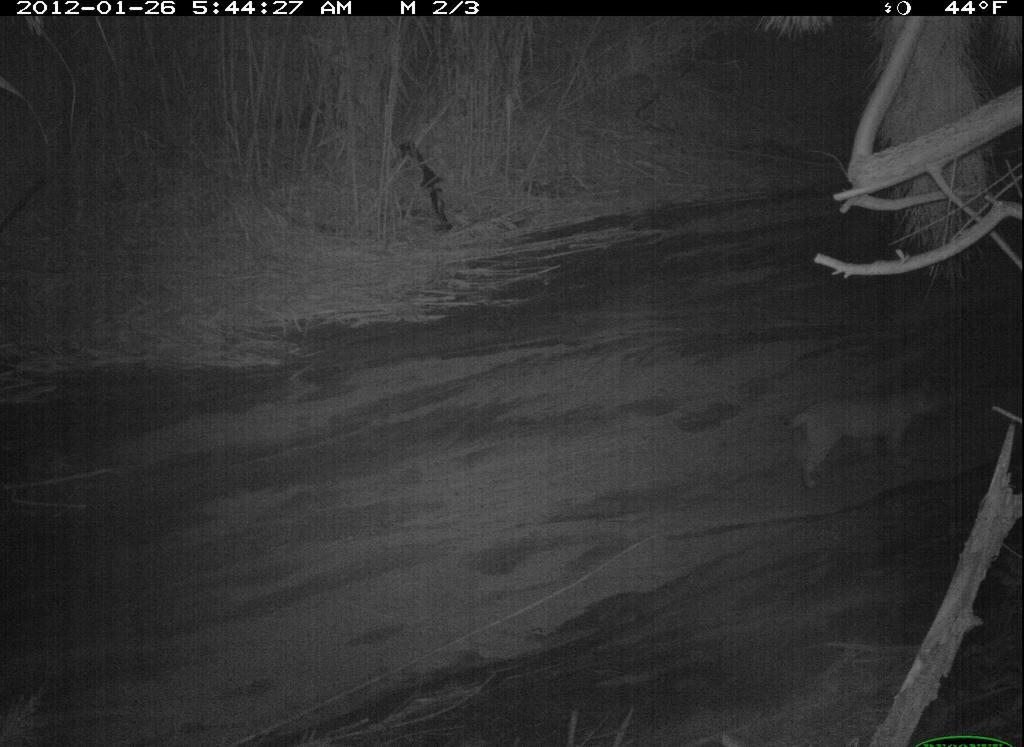bobcat: (775, 381, 971, 481)
